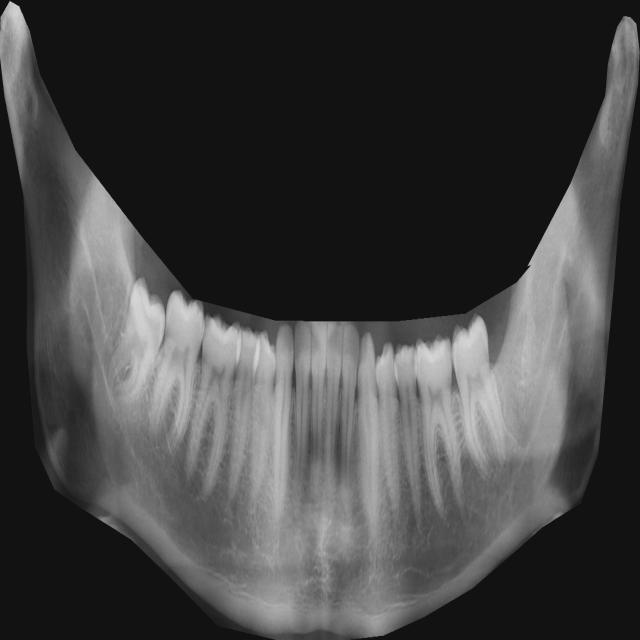mandibula: (0, 1, 640, 640)
